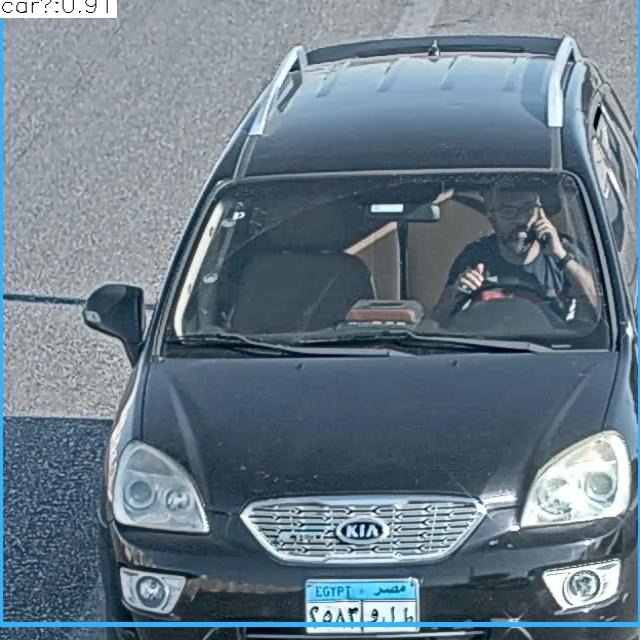windshield: (171, 170, 608, 343)
